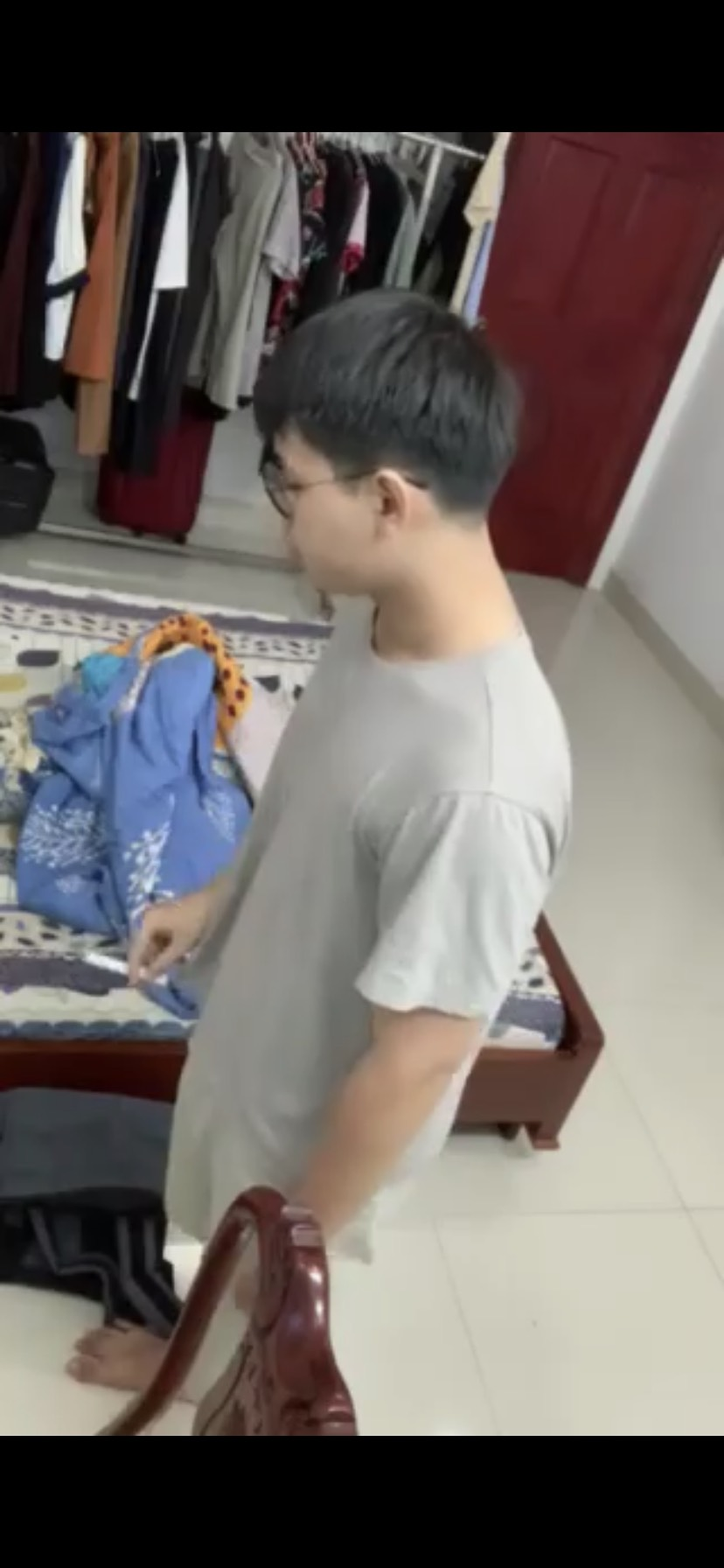cigarette: (85, 927, 170, 996)
person: (150, 297, 556, 1319)
